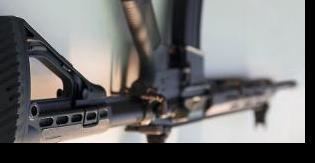larga: (0, 0, 297, 143)
